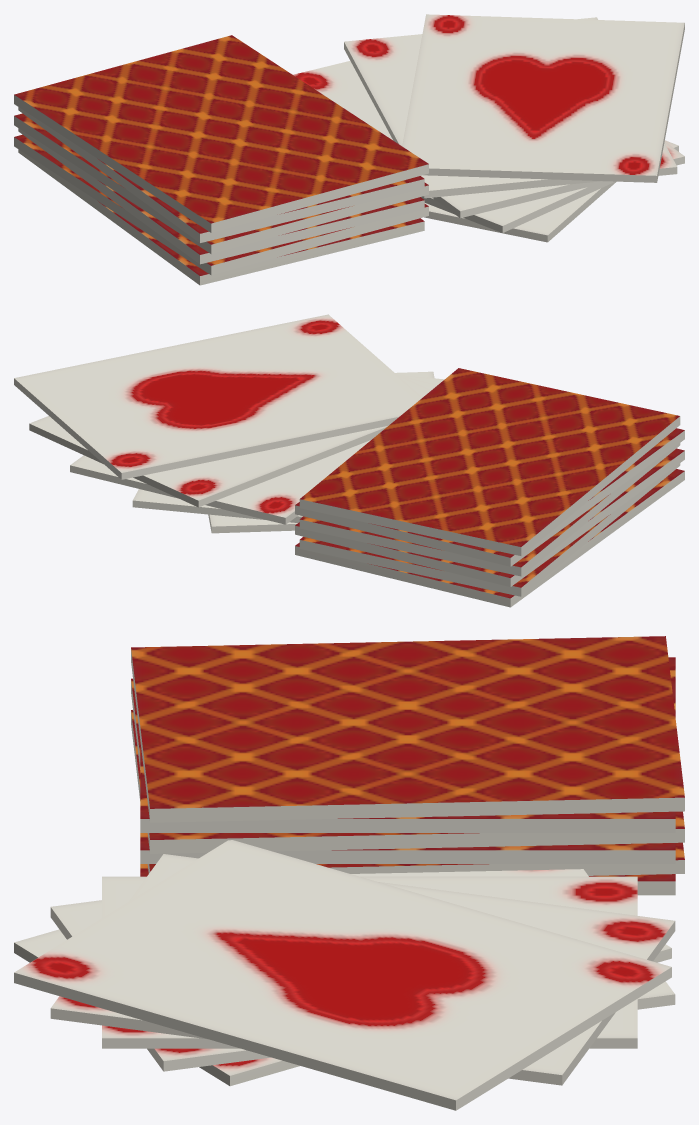
The model's file is Decor_Cards.fbx.
3 renders of one model, top to bottom at view 1: azimuth 30°, elevation 25°; view 2: azimuth 150°, elevation 25°; view 3: azimuth 270°, elevation 25°, orthographic. The views are drawn at different scales.
Visible parts, largest first — view 1: Decor_Cards; view 2: Decor_Cards; view 3: Decor_Cards.
Boxes of the visible parts, x1=… form: Decor_Cards: x1=14, y1=14, x2=684, y2=285; Decor_Cards: x1=14, y1=314, x2=684, y2=607; Decor_Cards: x1=14, y1=636, x2=684, y2=1110.
Size of the model in its own units: 0.5336 by 0.053 by 0.3508.
Materials: 1 (1 with a texture image).
